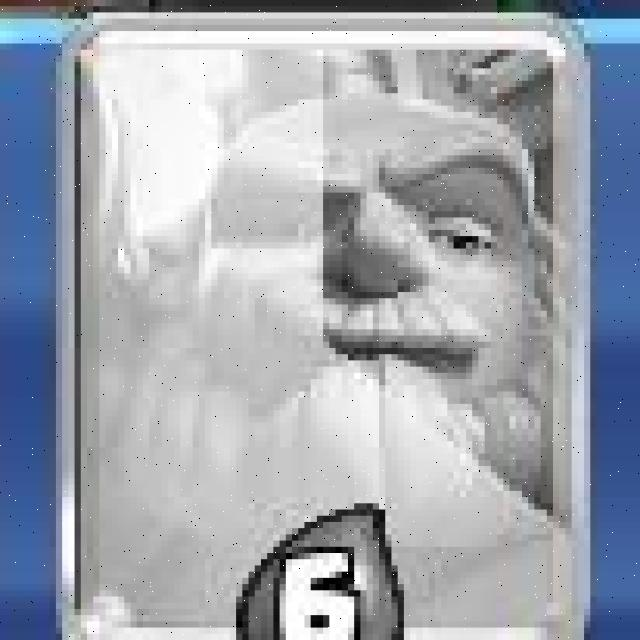Royal_Giant: (66, 18, 588, 640)
